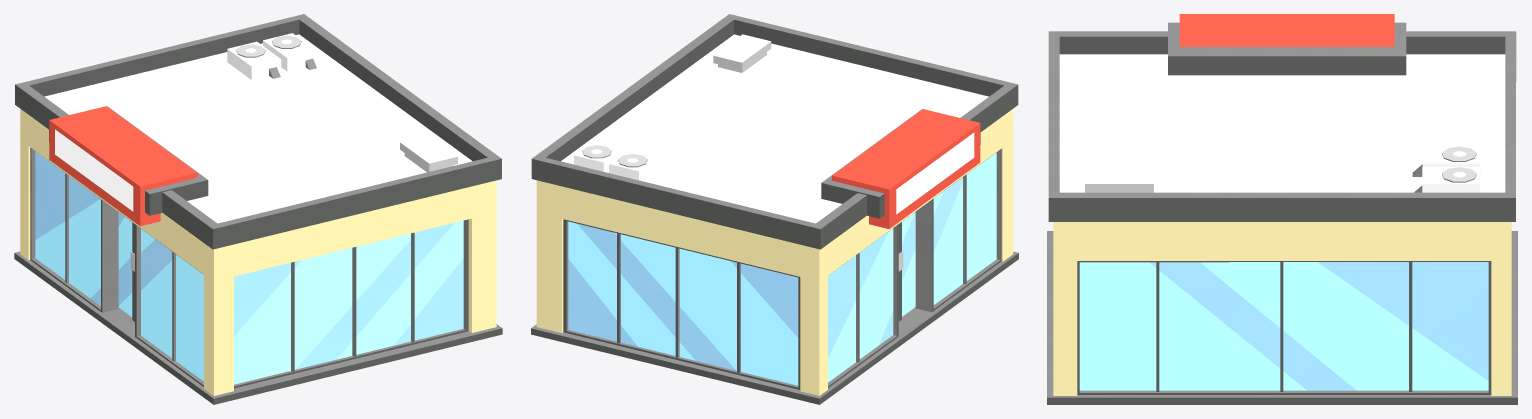
File: tile_for_home_1x1.006 (8) supermarket (1).glb
The picture shows the model from 3 angles, left to right: view 1: azimuth 30°, elevation 25°; view 2: azimuth 150°, elevation 25°; view 3: azimuth 270°, elevation 25°; orthographic projection. The views are drawn at different scales.
Parts seen in each view (by area): view 1: supermarket.001; view 2: supermarket.001; view 3: supermarket.001.
Boxes of the visible parts, x1=… form: supermarket.001: x1=14, y1=14, x2=502, y2=404; supermarket.001: x1=531, y1=14, x2=1018, y2=404; supermarket.001: x1=1047, y1=14, x2=1517, y2=404.
Size of the model in its own units: 6.06 by 3.43 by 6.82.
Materials: 1 (1 with a texture image).
